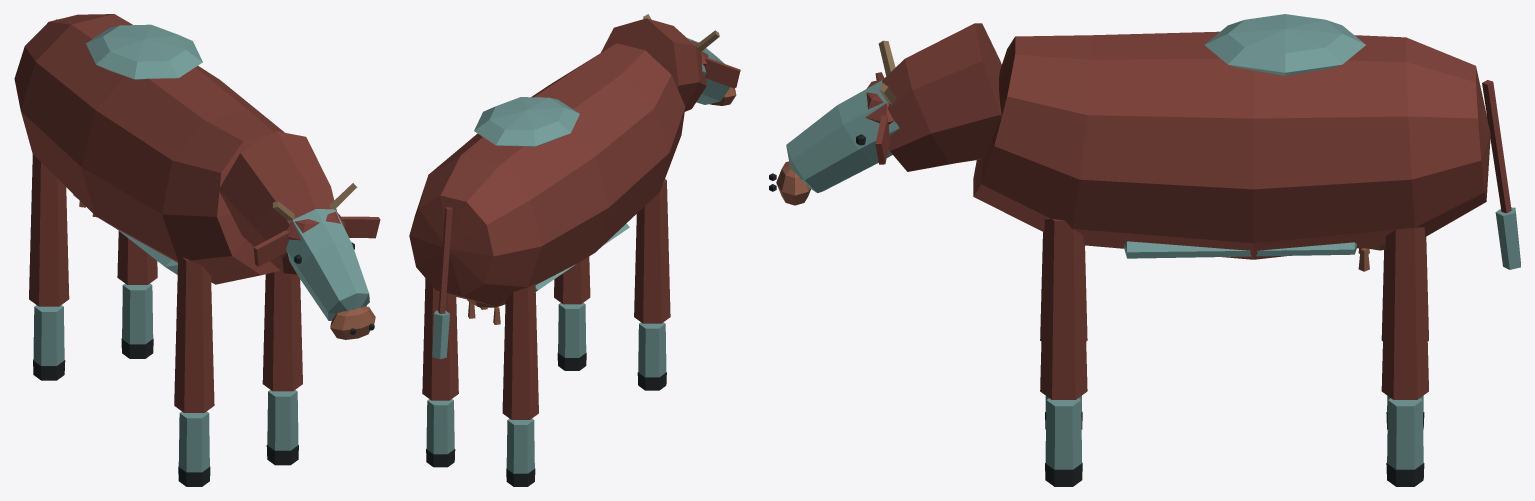
File: vaca.glb
3 renders of one model, left to right at view 1: azimuth 30°, elevation 25°; view 2: azimuth 150°, elevation 25°; view 3: azimuth 270°, elevation 25°, orthographic. The views are drawn at different scales.
Visible parts, largest first — view 1: Corp, Cap; view 2: Corp, Cap, Coada; view 3: Corp, Cap, Coada.
Boxes of the visible parts, x1,y1,x2,y2 form: Corp: (14,14,302,486); Cap: (219,131,380,339); Corp: (409,43,685,486); Cap: (601,14,740,111); Coada: (432,207,452,359); Corp: (973,14,1490,486); Cap: (769,23,1001,205); Coada: (1482,80,1520,269).
Bounding box in the file's own units: 0.66 × 1.51 × 2.38.
